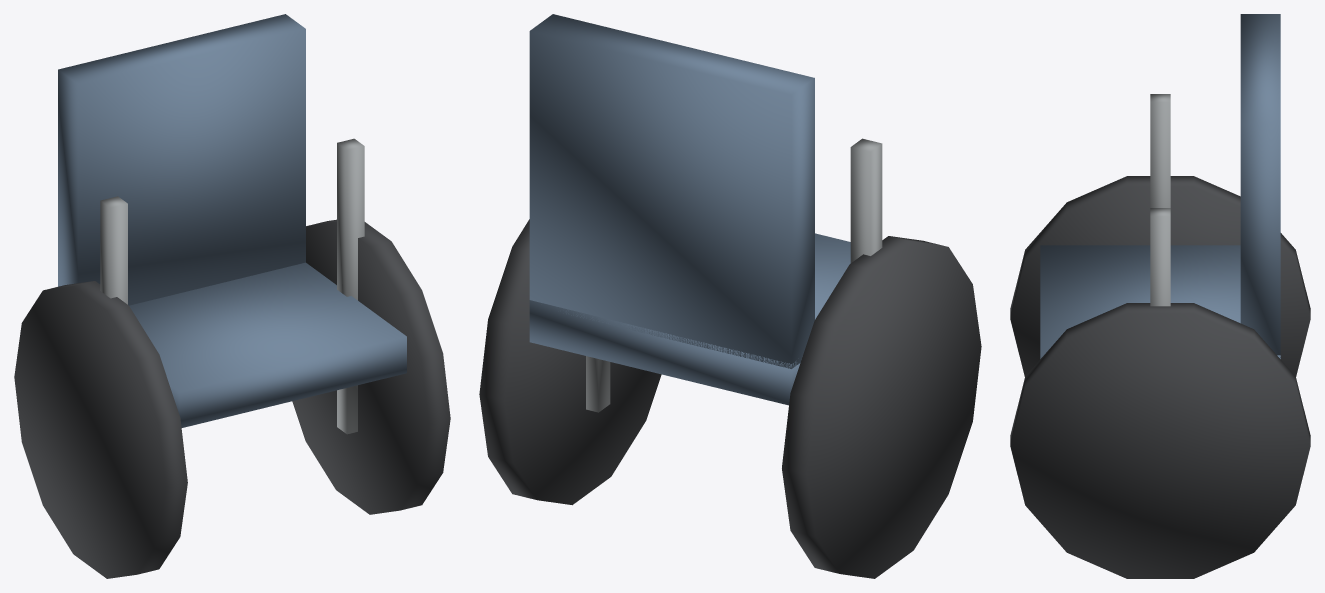
File: wheelchair.glb
3 renders of one model, left to right at view 1: azimuth 30°, elevation 25°; view 2: azimuth 150°, elevation 25°; view 3: azimuth 270°, elevation 25°, orthographic. The views are drawn at different scales.
Parts seen in each view (by area): view 1: world; view 2: world; view 3: world.
Boxes of the visible parts, x1,y1,x2,y2 form: world: [14, 14, 450, 578]; world: [479, 14, 981, 578]; world: [1010, 14, 1310, 578].
Bounding box in the file's own units: 0.65 × 0.9725 × 0.6.
